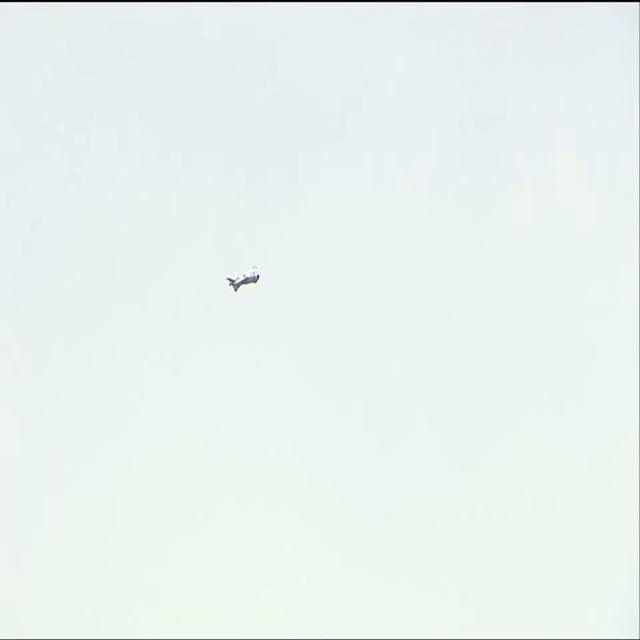iha: (227, 263, 260, 295)
